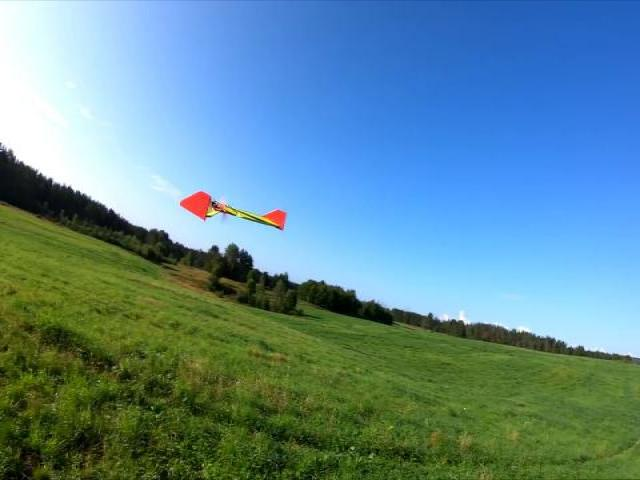flying wing: (178, 183, 290, 234)
